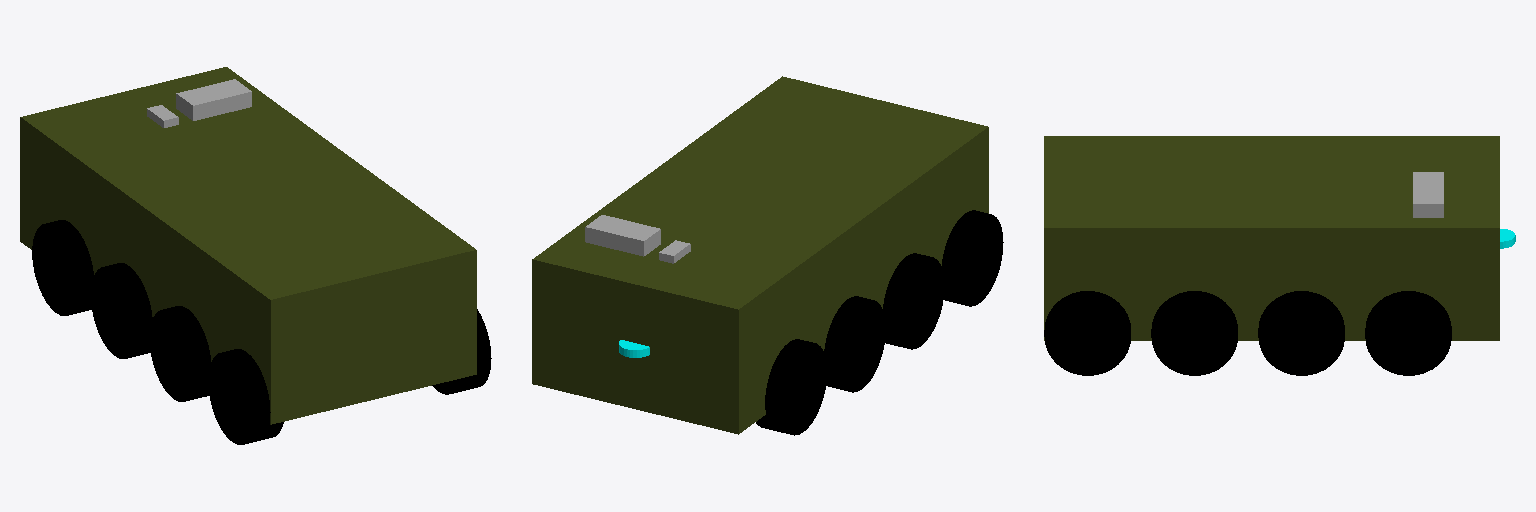
URDF robot description (argo_j8):
<?xml version="1.0" ?>
<!-- =================================================================================== -->
<!-- |    This document was autogenerated by xacro from [local-path]/ros2_ws/src/my_robot_description/urdf/argo_j8.urdf.xacro | -->
<!-- |    EDITING THIS FILE BY HAND IS NOT RECOMMENDED                                 | -->
<!-- =================================================================================== -->
<robot name="argo_j8">
  <!-- Specify some standard inertial calculations https://en.wikipedia.org/wiki/List_of_moments_of_inertia -->
  <!-- These make use of xacro's mathematical functionality -->
  <!-- Definicion de materiales constantes -->
  <material name="Military green">
    <color rgba="0.29 0.33 0.13 1.0"/>
  </material>
  <material name="black">
    <color rgba="0.0 0.0 0.0 1.0"/>
  </material>
  <material name="blue">
    <color rgba="0.0 1.0 1.0 1.0"/>
  </material>
  <material name="grey">
    <color rgba="0.7 0.7 0.7 1.0"/>
  </material>
  <!-- Chasis -->
  <link name="base_link">
    <visual>
      <geometry>
        <box size="1.40 2.94 0.81"/>
        <!-- Dimensiones en metros -->
      </geometry>
      <origin rpy="0 0 0" xyz="0 0 0"/>
      <material name="Military green"/>
    </visual>
    <collision>
      <geometry>
        <box size="1.40 2.94 0.81"/>
        <!-- Dimensiones en metros -->
      </geometry>
      <origin rpy="0 0 0" xyz="0 0 0"/>
    </collision>
    <inertial>
      <origin rpy="0 0 0" xyz="0 0 0"/>
      <mass value="662.0"/>
      <inertia ixx="513.0334499999999" ixy="0.0" ixz="0.0" iyy="144.32151666666664" iyz="0.0" izz="584.9652666666666"/>
    </inertial>
  </link>
  <!-- LiDAR, Camaras, y FixPosition -->
  <link name="LiDAR">
    <visual>
      <geometry>
        <cylinder length="0.05" radius="0.1"/>
        <!-- Dimensiones en metros -->
      </geometry>
      <origin rpy="0 0 0" xyz="0 0 0"/>
      <material name="blue"/>
    </visual>
    <collision>
      <geometry>
        <box size="0.2 0.2 0.05"/>
        <!-- Dimensiones en metros -->
      </geometry>
      <origin rpy="0 0 0" xyz="0 0 0"/>
    </collision>
  </link>
  <link name="front_camera">
    <visual>
      <geometry>
        <box size="0.1 0.1 0.1"/>
        <!-- Dimensiones en metros -->
      </geometry>
      <origin rpy="0 0 0" xyz="0 0 0"/>
      <material name="grey"/>
    </visual>
    <collision>
      <geometry>
        <box size="0.1 0.1 0.1"/>
        <!-- Dimensiones en metros -->
      </geometry>
      <origin rpy="0 0 0" xyz="0 0 0"/>
    </collision>
  </link>
  <link name="back_camera">
    <visual>
      <geometry>
        <box size="0.1 0.1 0.1"/>
        <!-- Dimensiones en metros -->
      </geometry>
      <origin rpy="0 0 0" xyz="0 0 0"/>
      <material name="grey"/>
    </visual>
    <collision>
      <geometry>
        <box size="0.1 0.1 0.1"/>
        <!-- Dimensiones en metros -->
      </geometry>
      <origin rpy="0 0 0" xyz="0 0 0"/>
    </collision>
  </link>
  <link name="fix_position">
    <visual>
      <geometry>
        <box size="0.4 0.2 0.2"/>
        <!-- Dimensiones en metros -->
      </geometry>
      <origin rpy="0 0 0" xyz="0 0 0"/>
      <material name="grey"/>
    </visual>
    <collision>
      <geometry>
        <box size="0.4 0.2 0.2"/>
        <!-- Dimensiones en metros -->
      </geometry>
      <origin rpy="0 0 0" xyz="0 0 0"/>
    </collision>
  </link>
  <!-- Definicion de las 8 ruedas -->
  <!-- Rueda delantera izquierda -->
  <link name="wheel_front_left">
    <visual>
      <geometry>
        <cylinder length="0.20" radius="0.28"/>
        <!-- Radio y ancho de la rueda -->
      </geometry>
      <origin rpy="0 1.57 0" xyz="0 0 0"/>
      <!-- Radio en radianes -->
      <material name="black"/>
    </visual>
    <collision>
      <geometry>
        <cylinder length="0.20" radius="0.28"/>
        <!-- Radio y ancho de la rueda -->
      </geometry>
      <origin rpy="0 1.57 0" xyz="0 0 0"/>
      <!-- Radio en radianes -->
    </collision>
    <inertial>
      <origin rpy="0 1.57 0" xyz="0 0 0"/>
      <mass value="11"/>
      <inertia ixx="0.2522666666666667" ixy="0.0" ixz="0.0" iyy="0.2522666666666667" iyz="0.0" izz="0.4312000000000001"/>
    </inertial>
  </link>
  <!-- Rueda delantera derecha -->
  <link name="wheel_front_right">
    <visual>
      <geometry>
        <cylinder length="0.20" radius="0.28"/>
        <!-- Radio y ancho de la rueda -->
      </geometry>
      <origin rpy="0 1.57 0" xyz="0 0 0"/>
      <material name="black"/>
    </visual>
    <collision>
      <geometry>
        <cylinder length="0.20" radius="0.28"/>
        <!-- Radio y ancho de la rueda -->
      </geometry>
      <origin rpy="0 1.57 0" xyz="0 0 0"/>
    </collision>
    <inertial>
      <origin rpy="0 1.57 0" xyz="0 0 0"/>
      <mass value="11"/>
      <inertia ixx="0.2522666666666667" ixy="0.0" ixz="0.0" iyy="0.2522666666666667" iyz="0.0" izz="0.4312000000000001"/>
    </inertial>
  </link>
  <!-- Rueda delantera_media izquierda -->
  <link name="wheel_midfront_left">
    <visual>
      <geometry>
        <cylinder length="0.20" radius="0.28"/>
        <!-- Radio y ancho de la rueda -->
      </geometry>
      <origin rpy="0 1.57 0" xyz="0 0 0"/>
      <material name="black"/>
    </visual>
    <collision>
      <geometry>
        <cylinder length="0.20" radius="0.28"/>
        <!-- Radio y ancho de la rueda -->
      </geometry>
      <origin rpy="0 1.57 0" xyz="0 0 0"/>
    </collision>
    <inertial>
      <origin rpy="0 1.57 0" xyz="0 0 0"/>
      <mass value="11"/>
      <inertia ixx="0.2522666666666667" ixy="0.0" ixz="0.0" iyy="0.2522666666666667" iyz="0.0" izz="0.4312000000000001"/>
    </inertial>
  </link>
  <!-- Rueda delantera_media derecha -->
  <link name="wheel_midfront_right">
    <visual>
      <geometry>
        <cylinder length="0.20" radius="0.28"/>
        <!-- Radio y ancho de la rueda -->
      </geometry>
      <origin rpy="0 1.57 0" xyz="0 0 0"/>
      <material name="black"/>
    </visual>
    <collision>
      <geometry>
        <cylinder length="0.20" radius="0.28"/>
        <!-- Radio y ancho de la rueda -->
      </geometry>
      <origin rpy="0 1.57 0" xyz="0 0 0"/>
    </collision>
    <inertial>
      <origin rpy="0 1.57 0" xyz="0 0 0"/>
      <mass value="11"/>
      <inertia ixx="0.2522666666666667" ixy="0.0" ixz="0.0" iyy="0.2522666666666667" iyz="0.0" izz="0.4312000000000001"/>
    </inertial>
  </link>
  <!-- Rueda trasera_media izquierda -->
  <link name="wheel_midback_left">
    <visual>
      <geometry>
        <cylinder length="0.20" radius="0.28"/>
        <!-- Radio y ancho de la rueda -->
      </geometry>
      <origin rpy="0 1.57 0" xyz="0 0 0"/>
      <material name="black"/>
    </visual>
    <collision>
      <geometry>
        <cylinder length="0.20" radius="0.28"/>
        <!-- Radio y ancho de la rueda -->
      </geometry>
      <origin rpy="0 1.57 0" xyz="0 0 0"/>
    </collision>
    <inertial>
      <origin rpy="0 1.57 0" xyz="0 0 0"/>
      <mass value="11"/>
      <inertia ixx="0.2522666666666667" ixy="0.0" ixz="0.0" iyy="0.2522666666666667" iyz="0.0" izz="0.4312000000000001"/>
    </inertial>
  </link>
  <!-- Rueda trasera_media derecha -->
  <link name="wheel_midback_right">
    <visual>
      <geometry>
        <cylinder length="0.20" radius="0.28"/>
        <!-- Radio y ancho de la rueda -->
      </geometry>
      <origin rpy="0 1.57 0" xyz="0 0 0"/>
      <material name="black"/>
    </visual>
    <collision>
      <geometry>
        <cylinder length="0.20" radius="0.28"/>
        <!-- Radio y ancho de la rueda -->
      </geometry>
      <origin rpy="0 1.57 0" xyz="0 0 0"/>
    </collision>
    <inertial>
      <origin rpy="0 1.57 0" xyz="0 0 0"/>
      <mass value="11"/>
      <inertia ixx="0.2522666666666667" ixy="0.0" ixz="0.0" iyy="0.2522666666666667" iyz="0.0" izz="0.4312000000000001"/>
    </inertial>
  </link>
  <!-- Rueda trasera izquierda -->
  <link name="wheel_back_left">
    <visual>
      <geometry>
        <cylinder length="0.20" radius="0.28"/>
        <!-- Radio y ancho de la rueda -->
      </geometry>
      <origin rpy="0 1.57 0" xyz="0 0 0"/>
      <material name="black"/>
    </visual>
    <collision>
      <geometry>
        <cylinder length="0.20" radius="0.28"/>
        <!-- Radio y ancho de la rueda -->
      </geometry>
      <origin rpy="0 1.57 0" xyz="0 0 0"/>
    </collision>
    <inertial>
      <origin rpy="0 1.57 0" xyz="0 0 0"/>
      <mass value="11"/>
      <inertia ixx="0.2522666666666667" ixy="0.0" ixz="0.0" iyy="0.2522666666666667" iyz="0.0" izz="0.4312000000000001"/>
    </inertial>
  </link>
  <!-- Rueda trasera derecha -->
  <link name="wheel_back_right">
    <visual>
      <geometry>
        <cylinder length="0.20" radius="0.28"/>
        <!-- Radio y ancho de la rueda -->
      </geometry>
      <origin rpy="0 1.57 0" xyz="0 0 0"/>
      <material name="black"/>
    </visual>
    <collision>
      <geometry>
        <cylinder length="0.20" radius="0.28"/>
        <!-- Radio y ancho de la rueda -->
      </geometry>
      <origin rpy="0 1.57 0" xyz="0 0 0"/>
    </collision>
    <inertial>
      <origin rpy="0 1.57 0" xyz="0 0 0"/>
      <mass value="11"/>
      <inertia ixx="0.2522666666666667" ixy="0.0" ixz="0.0" iyy="0.2522666666666667" iyz="0.0" izz="0.4312000000000001"/>
    </inertial>
  </link>
  <!-- Link virtual para base del plano.  -->
  <link name="base_footprint"/>
  <!-- Joint de referencia de la base del plano y Argo J8 -->
  <joint name="joint_base_footprint" type="fixed">
    <parent link="base_link"/>
    <child link="base_footprint"/>
    <origin rpy="0 0 0" xyz="0 0 -0.605"/>
    <!-- Posición de la rueda con respecto al chasis -->
  </joint>
  <!-- Definicion de Joints entre chasis y LiDAR, cámara y sensores, y, entre chasis y rueda -->
  <!-- Joint entre chasis y LiDAR -->
  <joint name="joint_LiDAR" type="fixed">
    <parent link="base_link"/>
    <child link="LiDAR"/>
    <origin rpy="0 0 0" xyz="0 1.47 0"/>
    <!-- Posición del LiDAR con respecto al chasis -->
  </joint>
  <!-- Joint entre chasis y camaras -->
  <joint name="joint_front_camera" type="fixed">
    <parent link="base_link"/>
    <child link="front_camera"/>
    <origin rpy="0 0 0" xyz="0 1.06 0.405"/>
    <!-- Posición de la camara con respecto al chasis -->
  </joint>
  <joint name="joint_back_camera" type="fixed">
    <parent link="base_link"/>
    <child link="back_camera"/>
    <origin rpy="0 0 0" xyz="0 0.96 0.405"/>
    <!-- Posición de la camara con respecto al chasis -->
  </joint>
  <!-- Joint entre chasis y FixPosition -->
  <joint name="joint_fix_position" type="fixed">
    <parent link="base_link"/>
    <child link="fix_position"/>
    <origin rpy="0 0 0" xyz="0.35 1.01 0.405"/>
    <!-- Posición del LiDAR con respecto al chasis -->
  </joint>
  <!-- Joint entre chasis y rueda delantera izquierda -->
  <joint name="joint_wheel_front_left" type="continuous">
    <parent link="base_link"/>
    <child link="wheel_front_left"/>
    <origin rpy="0 0 0" xyz="-0.7 0.88 -0.325"/>
    <!-- Posición de la rueda con respecto al chasis -->
    <axis xyz="-1 0 0"/>
    <!-- Eje de rotación -->
  </joint>
  <!-- Joint entre chasis y rueda delantera derecha -->
  <joint name="joint_wheel_front_right" type="continuous">
    <parent link="base_link"/>
    <child link="wheel_front_right"/>
    <origin rpy="0 0 0" xyz="0.7 0.88 -0.325"/>
    <!-- Posición de la rueda con respecto al chasis -->
    <axis xyz="-1 0 0"/>
    <!-- Eje de rotación -->
  </joint>
  <!-- Joint entre chasis y rueda delantera_media izquierda -->
  <joint name="joint_wheel_midfront_left" type="continuous">
    <parent link="base_link"/>
    <child link="wheel_midfront_left"/>
    <origin rpy="0 0 0" xyz="-0.7 0.19 -0.325"/>
    <!-- Posición de la rueda con respecto al chasis -->
    <axis xyz="-1 0 0"/>
    <!-- Eje de rotación -->
  </joint>
  <!-- Joint entre chasis y rueda delantera_media derecha -->
  <joint name="joint_wheel_midfront_right" type="continuous">
    <parent link="base_link"/>
    <child link="wheel_midfront_right"/>
    <origin rpy="0 0 0" xyz="0.7 0.19 -0.325"/>
    <!-- Posición de la rueda con respecto al chasis -->
    <axis xyz="-1 0 0"/>
    <!-- Eje de rotación -->
  </joint>
  <!-- Joint entre chasis y rueda trasera_media izquierda -->
  <joint name="joint_wheel_midback_left" type="continuous">
    <parent link="base_link"/>
    <child link="wheel_midback_left"/>
    <origin rpy="0 0 0" xyz="-0.7 -0.5 -0.325"/>
    <!-- Posición de la rueda con respecto al chasis -->
    <axis xyz="-1 0 0"/>
    <!-- Eje de rotación -->
  </joint>
  <!-- Joint entre chasis y rueda trasera_media derecha -->
  <joint name="joint_wheel_midback_right" type="continuous">
    <parent link="base_link"/>
    <child link="wheel_midback_right"/>
    <origin rpy="0 0 0" xyz="0.7 -0.5 -0.325"/>
    <!-- Posición de la rueda con respecto al chasis -->
    <axis xyz="-1 0 0"/>
    <!-- Eje de rotación -->
  </joint>
  <!-- Joint entre chasis y rueda trasera izquierda -->
  <joint name="joint_wheel_back_left" type="continuous">
    <parent link="base_link"/>
    <child link="wheel_back_left"/>
    <origin rpy="0 0 0" xyz="-0.7 -1.19 -0.325"/>
    <!-- Posición de la rueda con respecto al chasis -->
    <axis xyz="-1 0 0"/>
    <!-- Eje de rotación -->
  </joint>
  <!-- Joint entre chasis y rueda trasera derecha -->
  <joint name="joint_wheel_back_right" type="continuous">
    <parent link="base_link"/>
    <child link="wheel_back_right"/>
    <origin rpy="0 0 0" xyz="0.7 -1.19 -0.325"/>
    <!-- Posición de la rueda con respecto al chasis -->
    <axis xyz="-1 0 0"/>
    <!-- Eje de rotación -->
  </joint>
</robot>

--- Render facts (derived) ---
3 views of the same robot in one strip: view 1: azimuth 30°, elevation 25°; view 2: azimuth 150°, elevation 25°; view 3: azimuth 270°, elevation 25° (orthographic).
Model argo_j8 with 14 links and 13 joints (8 continuous, 5 fixed), rooted at base_link, posed every joint at zero.
Links seen in each view (by area): view 1: base_link, wheel_back_left, wheel_midfront_left, wheel_front_left, wheel_midback_left, fix_position, wheel_back_right; view 2: base_link, wheel_front_left, wheel_midfront_left, wheel_midback_left, wheel_back_left, fix_position; view 3: base_link, wheel_midback_right, wheel_midfront_right, wheel_back_right, wheel_front_right, fix_position.
Boxes of the visible links, bbox=[...] form: base_link: bbox=[20, 67, 476, 424]; wheel_back_left: bbox=[208, 349, 283, 444]; wheel_midfront_left: bbox=[91, 263, 152, 358]; wheel_front_left: bbox=[32, 220, 93, 315]; wheel_midback_left: bbox=[149, 306, 210, 401]; fix_position: bbox=[176, 79, 251, 120]; wheel_back_right: bbox=[432, 309, 491, 394]; base_link: bbox=[532, 76, 988, 434]; wheel_front_left: bbox=[756, 339, 826, 435]; wheel_midfront_left: bbox=[824, 296, 885, 392]; wheel_midback_left: bbox=[883, 253, 944, 349]; wheel_back_left: bbox=[942, 210, 1003, 306]; fix_position: bbox=[585, 215, 660, 256]; base_link: bbox=[1044, 136, 1499, 340]; wheel_midback_right: bbox=[1151, 291, 1237, 375]; wheel_midfront_right: bbox=[1258, 291, 1344, 375]; wheel_back_right: bbox=[1044, 291, 1130, 375]; wheel_front_right: bbox=[1365, 291, 1451, 375]; fix_position: bbox=[1413, 178, 1443, 217].
Bounding box of the posed robot: 1.6 × 3.04 × 1.11 m (x, y, z).
Geometry: primitives only (box / cylinder / sphere), no mesh files.